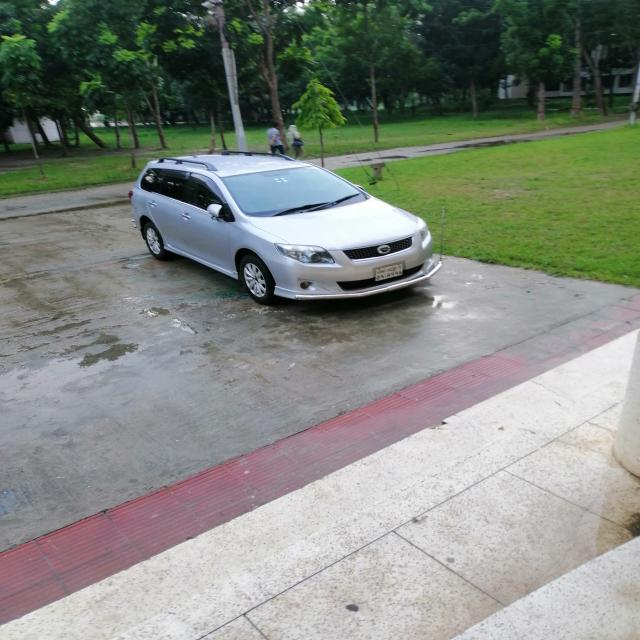Car: (125, 151, 446, 307)
